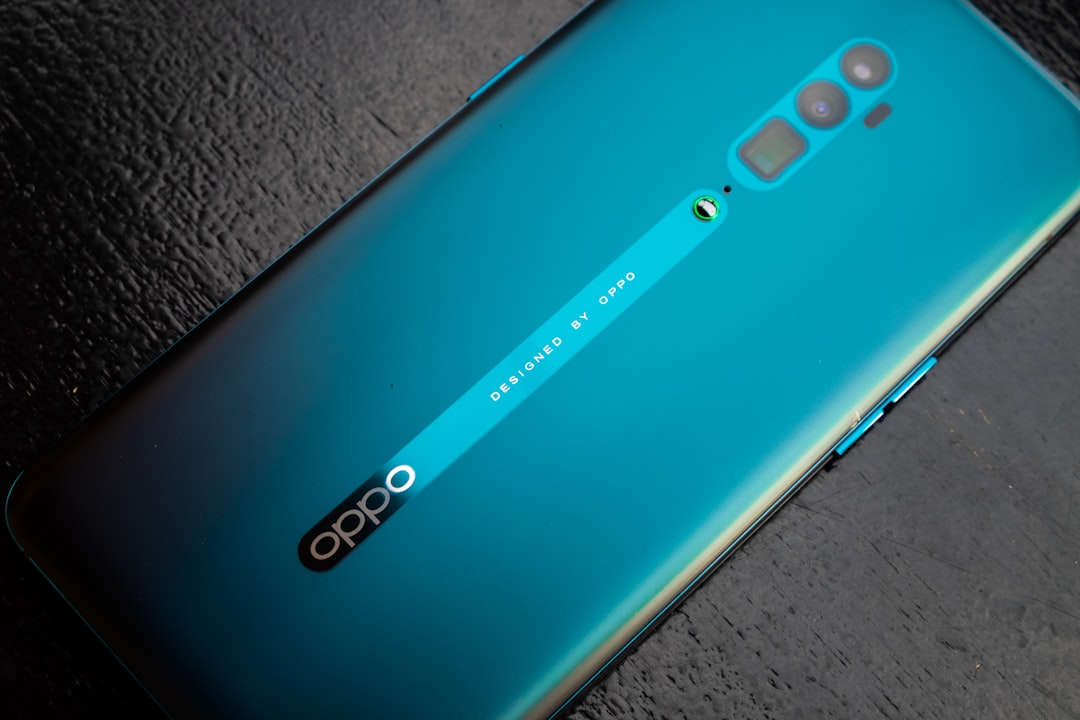phone: (2, 6, 1077, 717)
